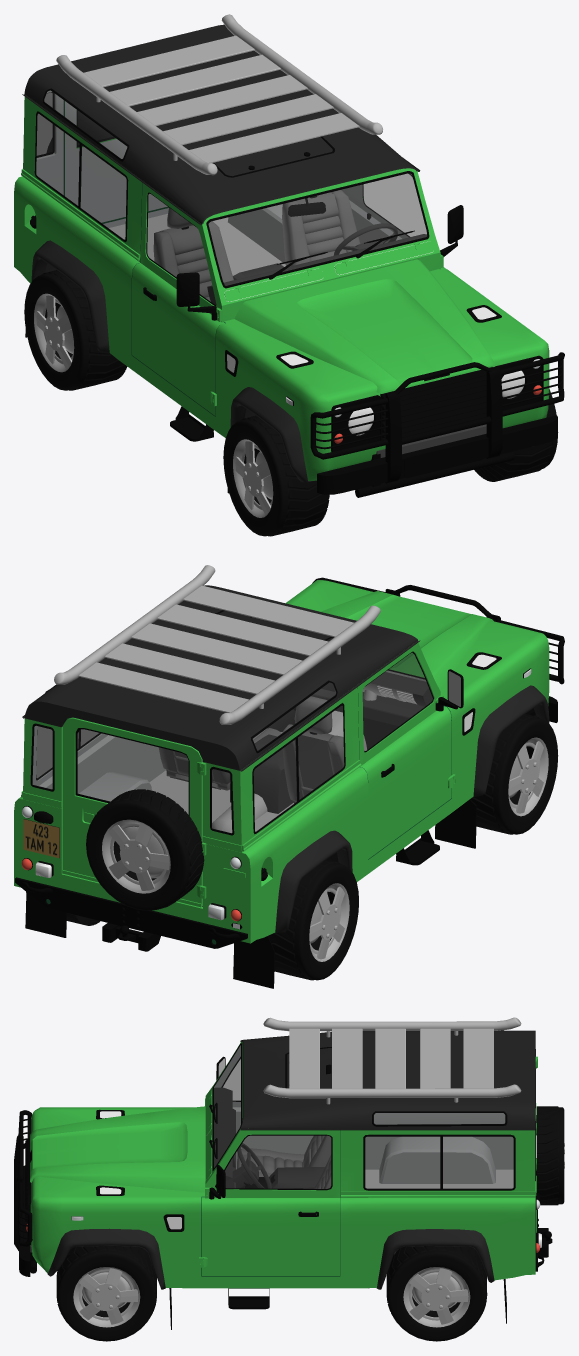
File: player-SUV.fbx
3 views of the same model, one above another, from view 1: azimuth 30°, elevation 25°; view 2: azimuth 150°, elevation 25°; view 3: azimuth 270°, elevation 25° (orthographic). The views are drawn at different scales.
Parts seen in each view (by area): view 1: player-SUV, player-SUV-front-wheel-R, player-SUV-rear-wheel-R, player-SUV-front-wheel-L; view 2: player-SUV, player-SUV-spare-wheel, player-SUV-rear-wheel-R, player-SUV-front-wheel-R; view 3: player-SUV, player-SUV-rear-wheel-L, player-SUV-front-wheel-L, player-SUV-spare-wheel.
Part boxes in pixels (box(x1,y1,x2,y2)): player-SUV: box(14, 14, 564, 497); player-SUV-front-wheel-R: box(223, 415, 329, 536); player-SUV-rear-wheel-R: box(24, 270, 127, 390); player-SUV-front-wheel-L: box(474, 389, 558, 481); player-SUV: box(14, 565, 564, 988); player-SUV-spare-wheel: box(86, 789, 204, 910); player-SUV-rear-wheel-R: box(268, 859, 358, 980); player-SUV-front-wheel-R: box(470, 714, 558, 834); player-SUV: box(14, 1017, 552, 1329); player-SUV-rear-wheel-L: box(386, 1246, 487, 1341); player-SUV-front-wheel-L: box(56, 1246, 156, 1341); player-SUV-spare-wheel: box(536, 1106, 564, 1205).
Bounding box in the file's own units: 2.55 × 2.42 × 5.12.
